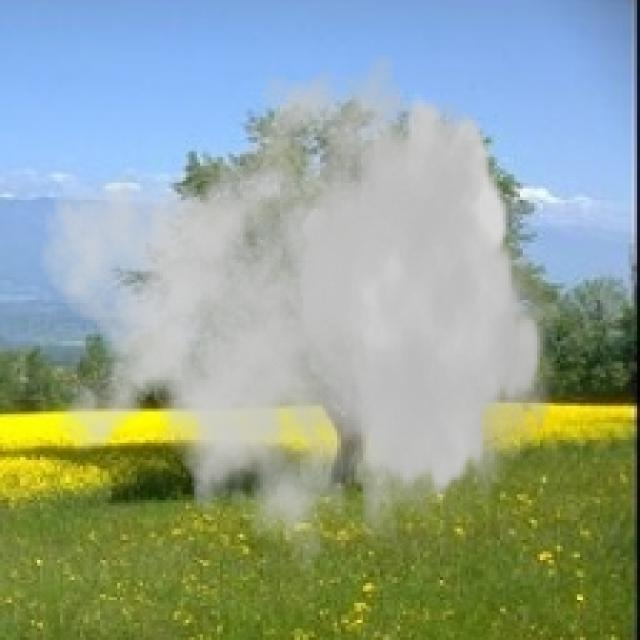Smoke: (37, 43, 560, 603)
